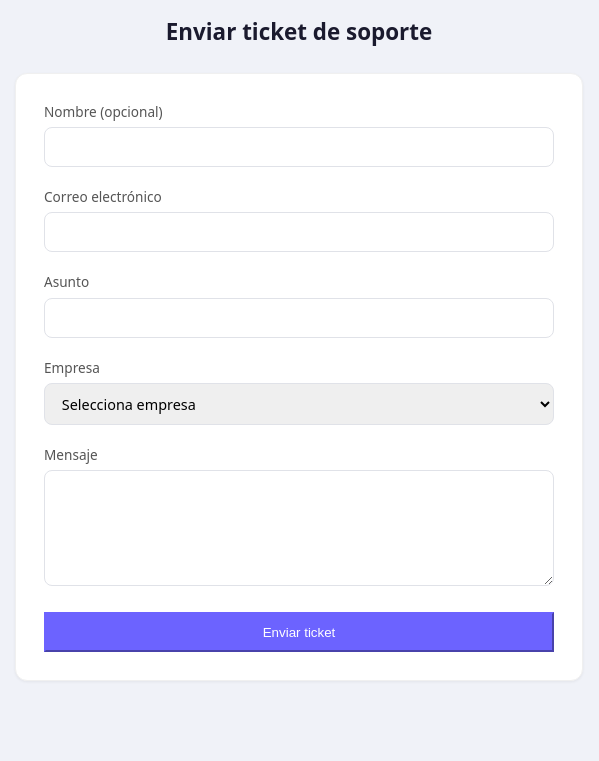
NuevoTicket › shows error on API failure
Expected: the heading "Enviar ticket de soporte" is shown, [166,16,432,47]
Type "test@test.com" into the field below "Correo electrónico" at (299,232), box [44,212,554,252]
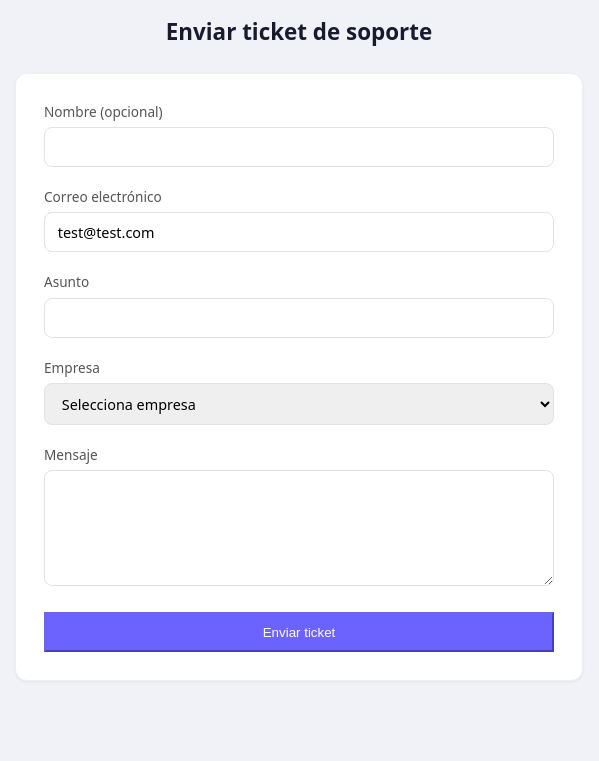
Type "Asunto test" into the field below "Asunto" at (299,318), box [44,298,554,338]
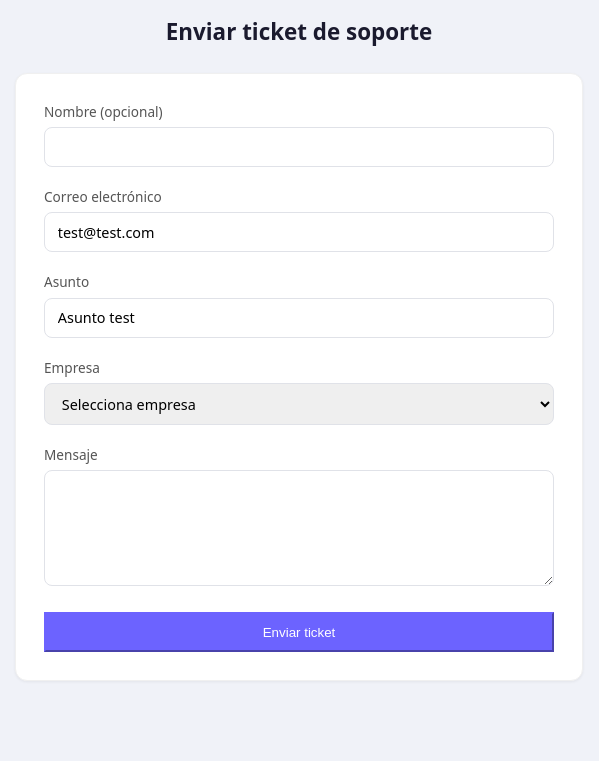
Type "Mensaje test" into the text box at (299,528), box [44,470,554,586]
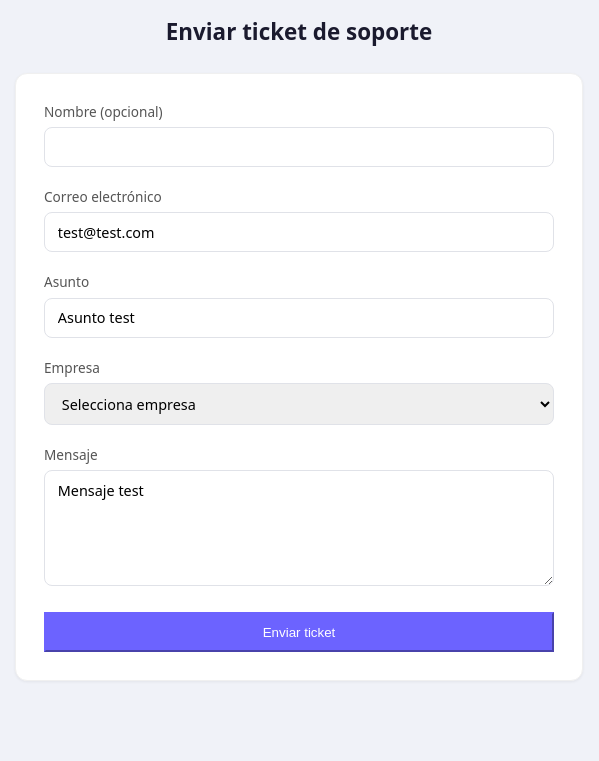
Select "TestCorp" in the dropdown at (299,404), box [44,383,554,425]
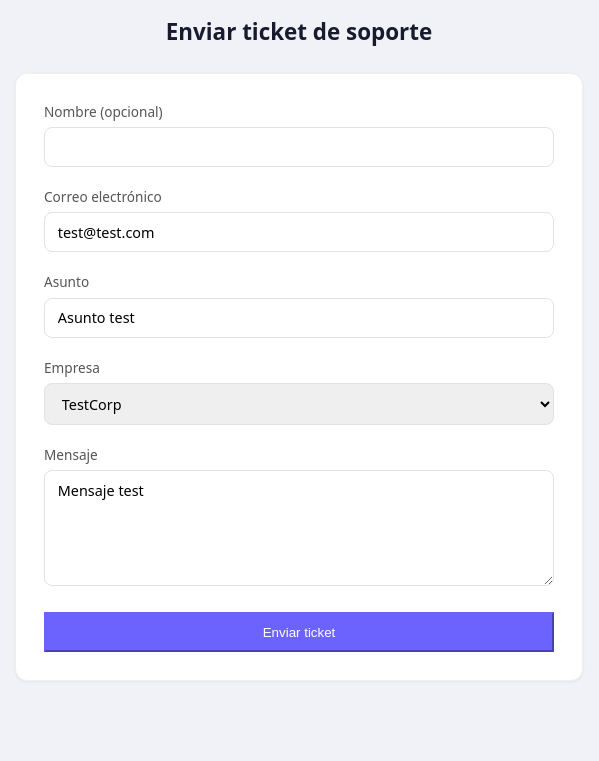
Click the button "Enviar ticket" at (299,632), box [44,612,554,652]
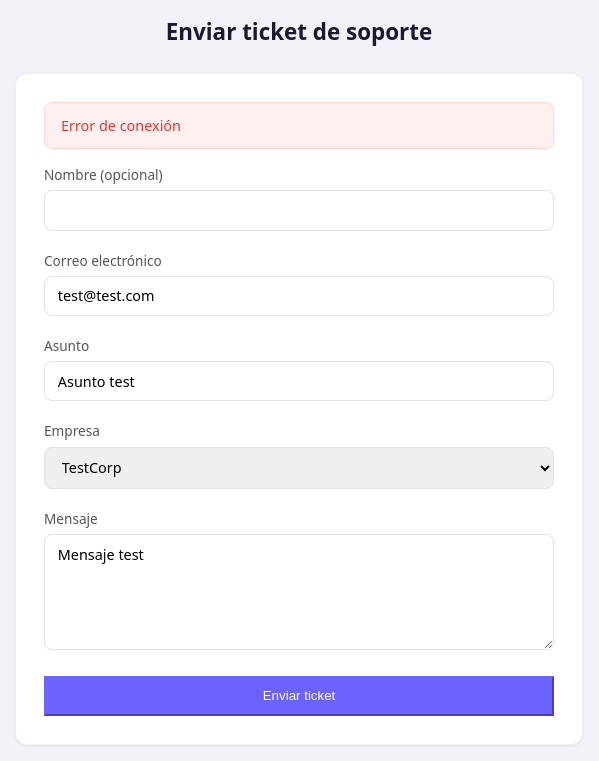
Expected: the text "Error de conexión" is shown, [44,102,554,149]
